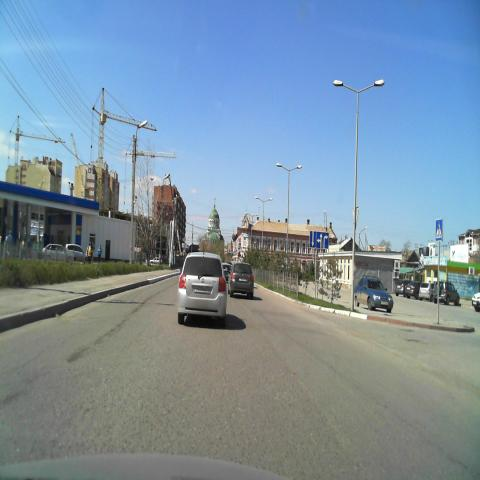5_15_7: (309, 230, 329, 250)
5_19_1: (435, 218, 443, 242)
